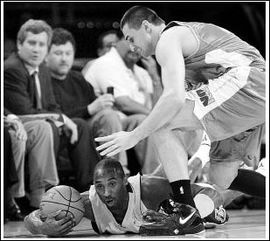falling: (28, 155, 240, 234)
